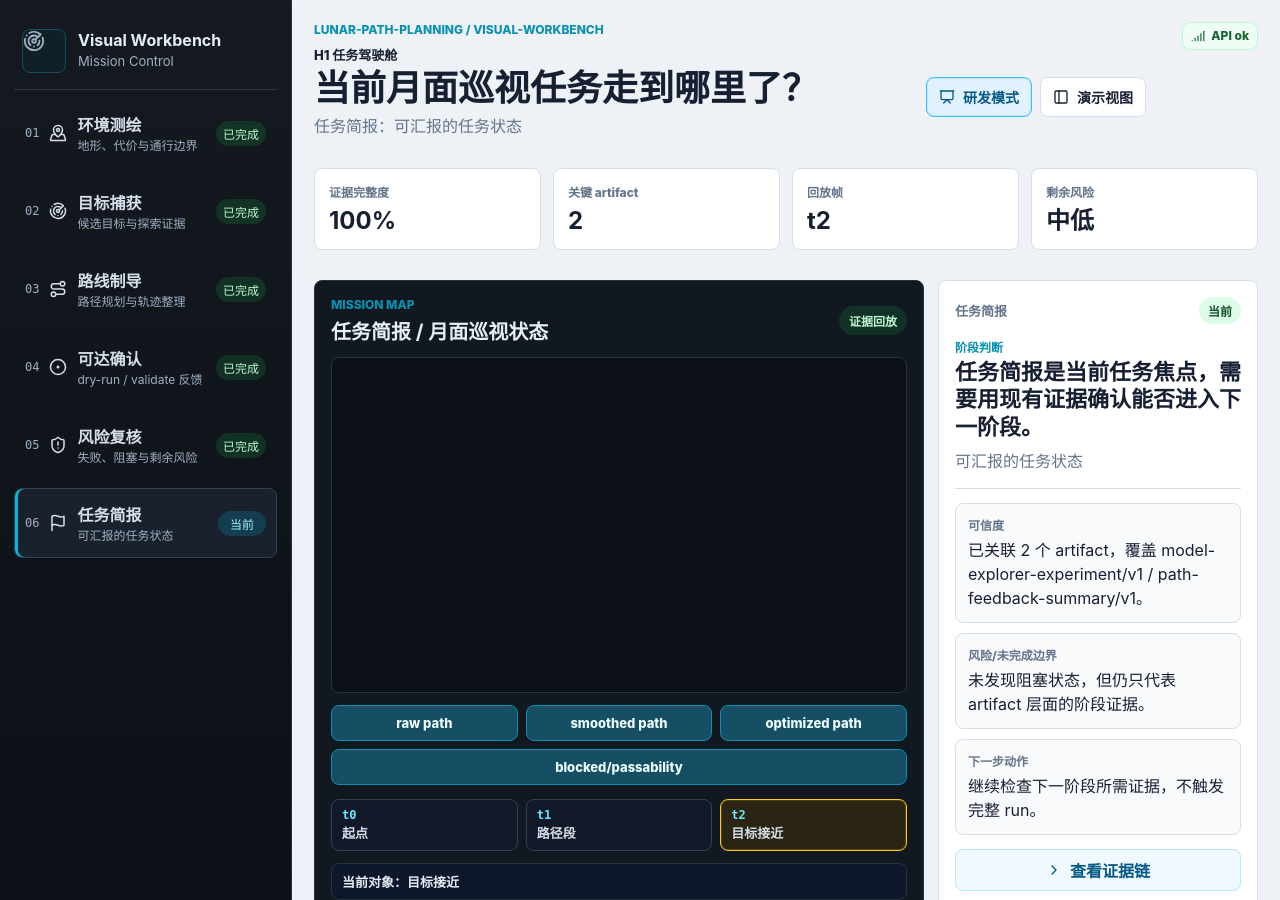
Scenario: App › mission map replay exposes layer toggles and timeline selection
What coordinates should you click on to do the following:
click the button "raw path"
I would click on:
 (424, 723)
Its box is [331,705,518,741].
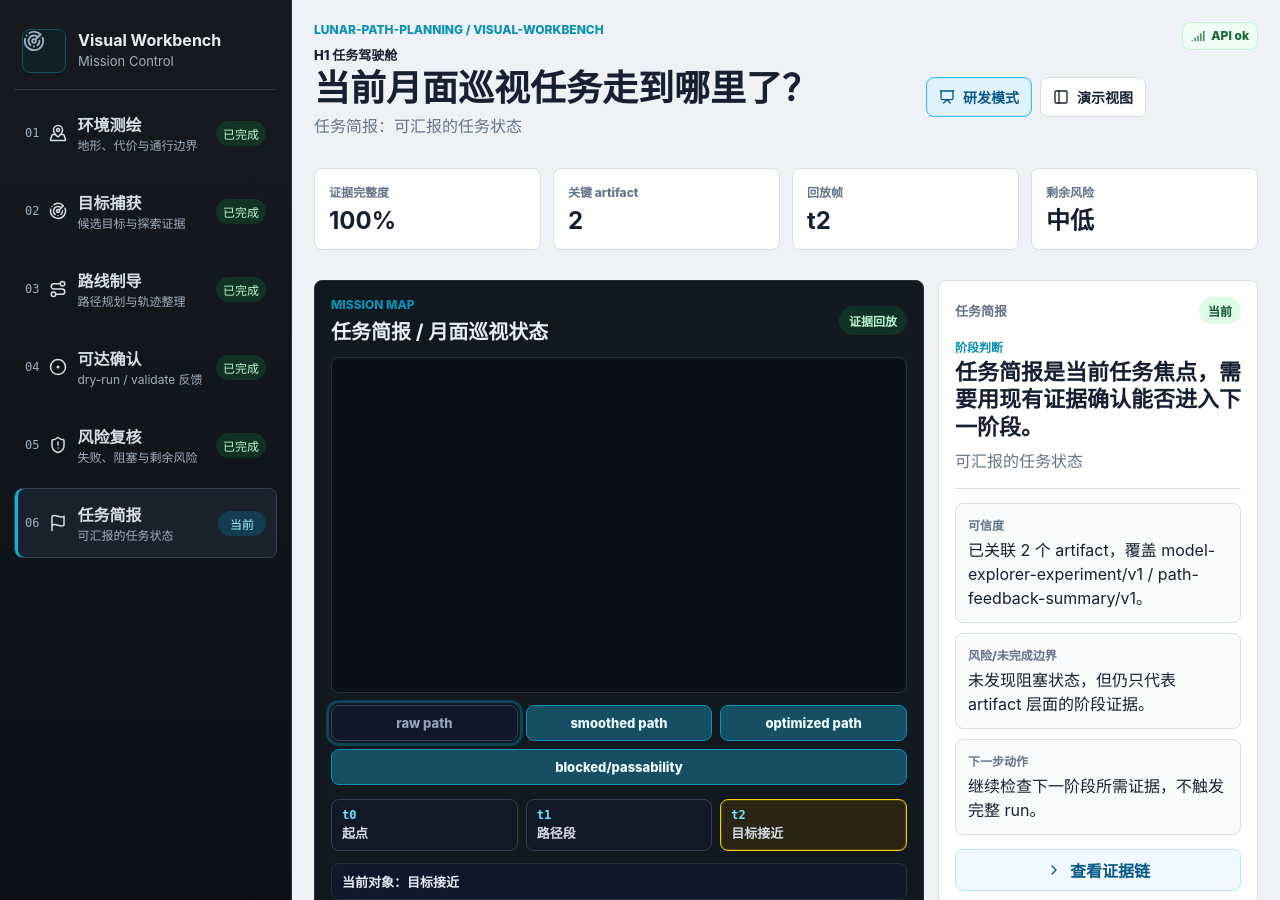
Check: the button "raw path" is not pressed, box [331,705,518,741]
What coordinates should you click on to do the following:
click the button "t2 目标接近"
I would click on:
 (814, 825)
Its box is [720,799,907,851].
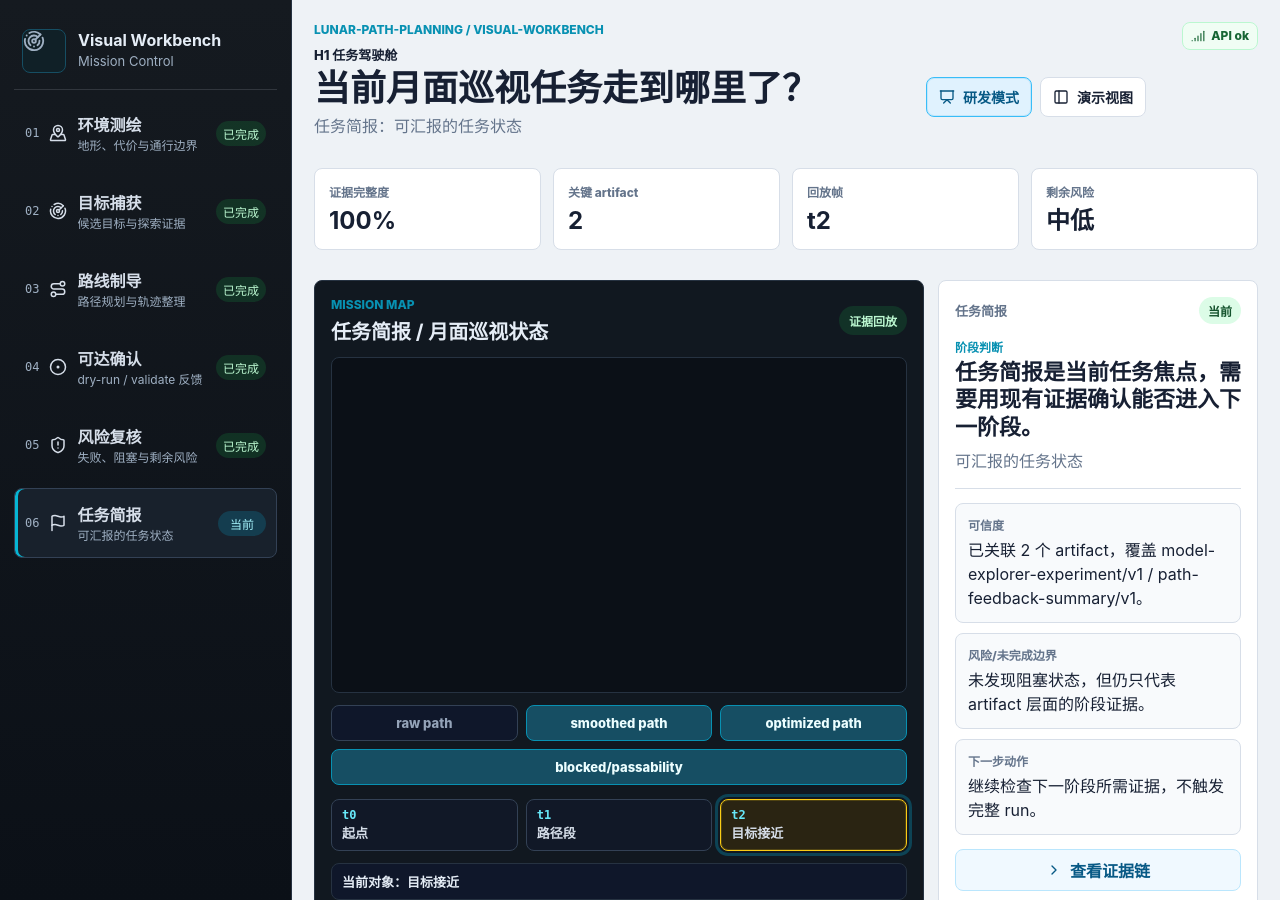
Check: the text "当前对象：目标接近" is shown, box [331,863,907,899]
What coordinates should you click on to do the following:
click the button "t0 起点"
I would click on:
 (424, 825)
Its box is [331,799,518,851].
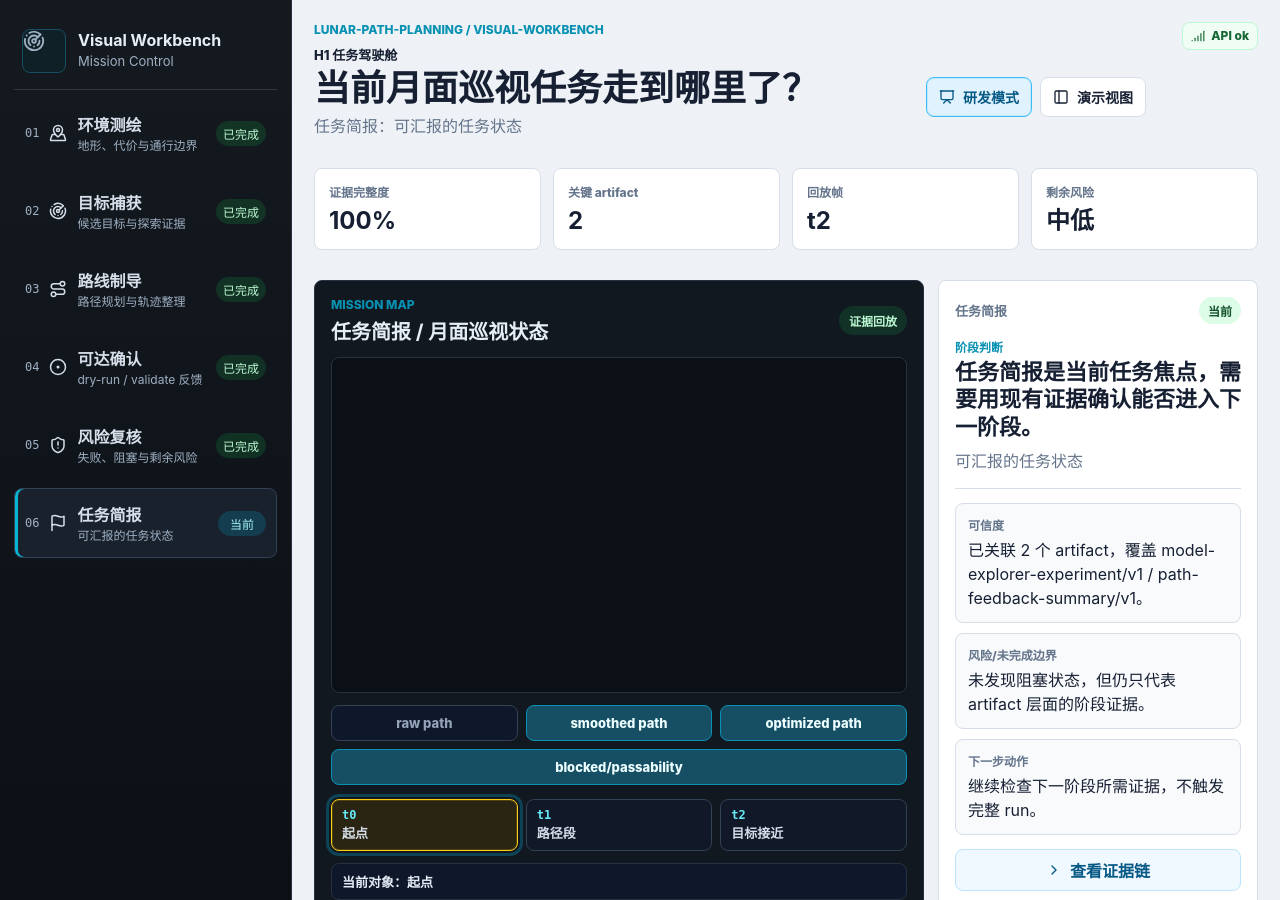
Check: the text "当前对象：起点" is shown, box [331,863,907,899]
